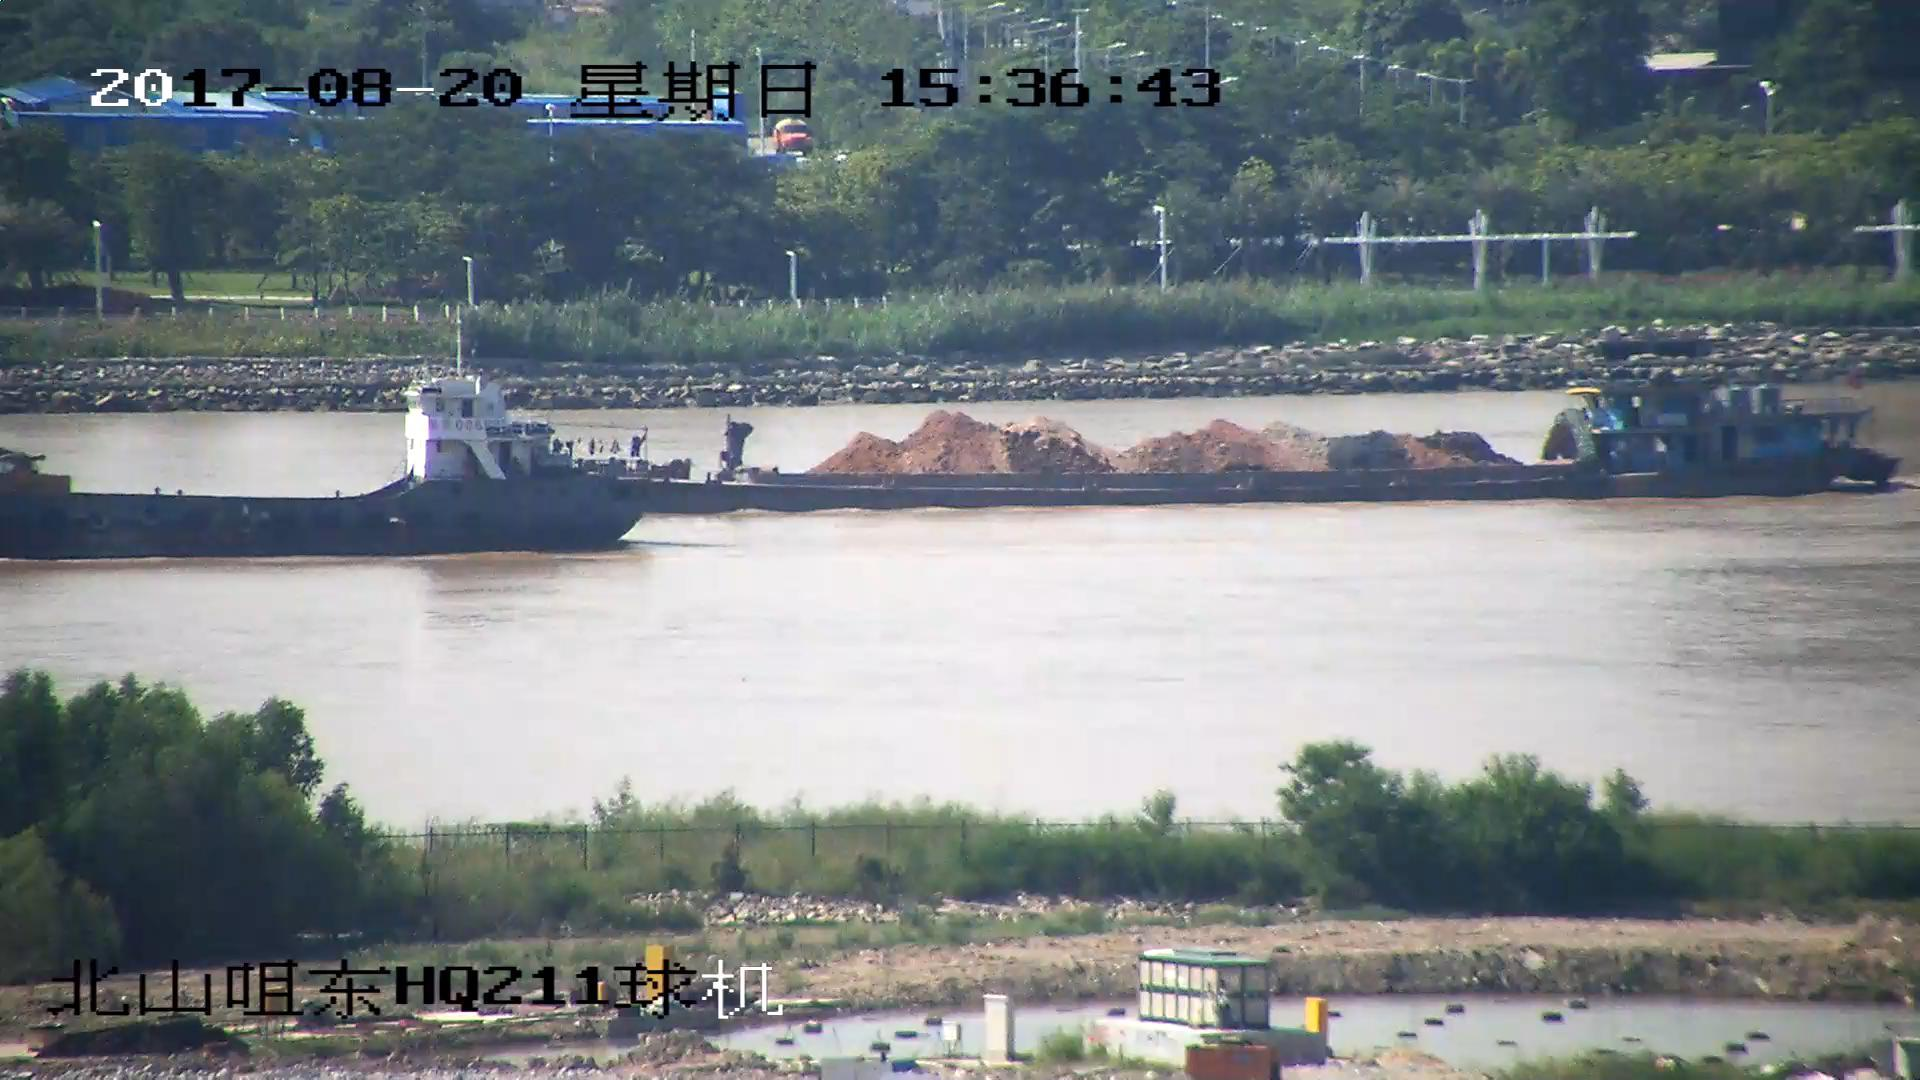Ship: (575, 381, 1896, 509), (3, 313, 669, 559)
